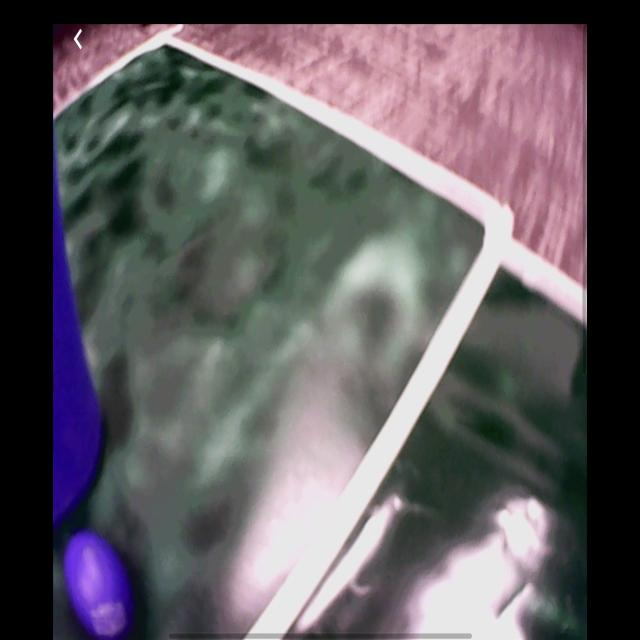ball: (63, 532, 133, 640)
